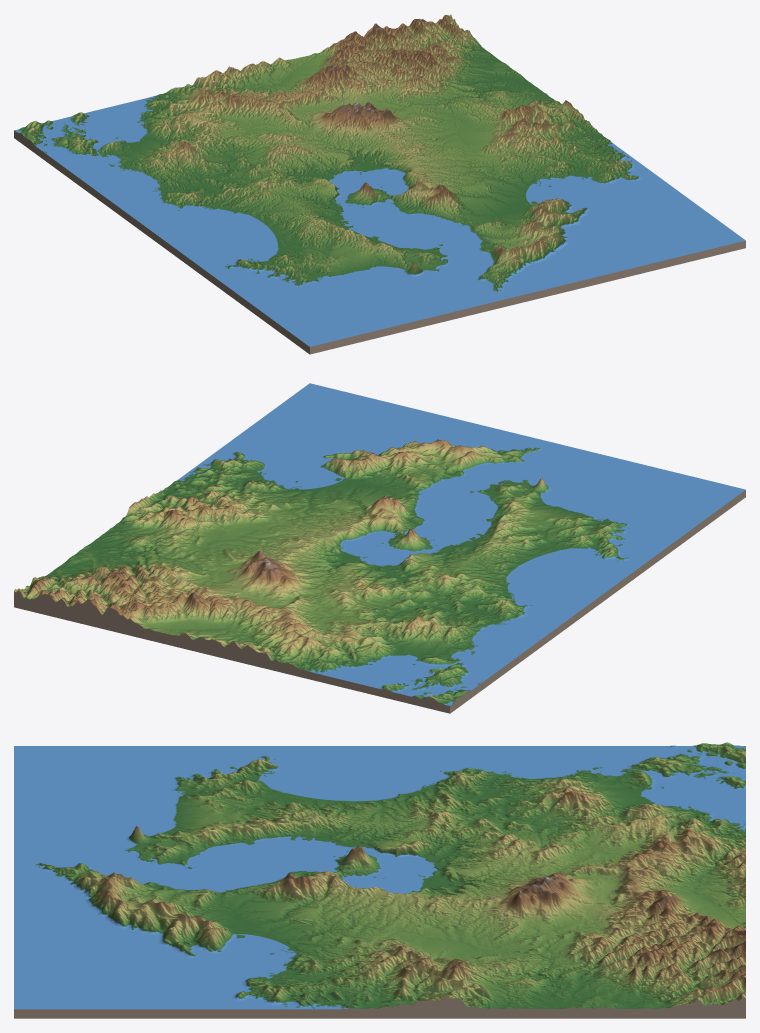
Rendered from kagoshima.glb.
3 renders of one model, top to bottom at view 1: azimuth 30°, elevation 25°; view 2: azimuth 150°, elevation 25°; view 3: azimuth 270°, elevation 25°, orthographic. The views are drawn at different scales.
Visible parts, largest first — view 1: Kagoshima; view 2: Kagoshima; view 3: Kagoshima.
Boxes of the visible parts, bbox=[...] form: Kagoshima: bbox=[14, 14, 745, 354]; Kagoshima: bbox=[14, 383, 745, 713]; Kagoshima: bbox=[14, 742, 745, 1018].
Bounding box in the file's own units: 0.6 × 0.0391 × 0.7049.
2 materials, 1 textured.
